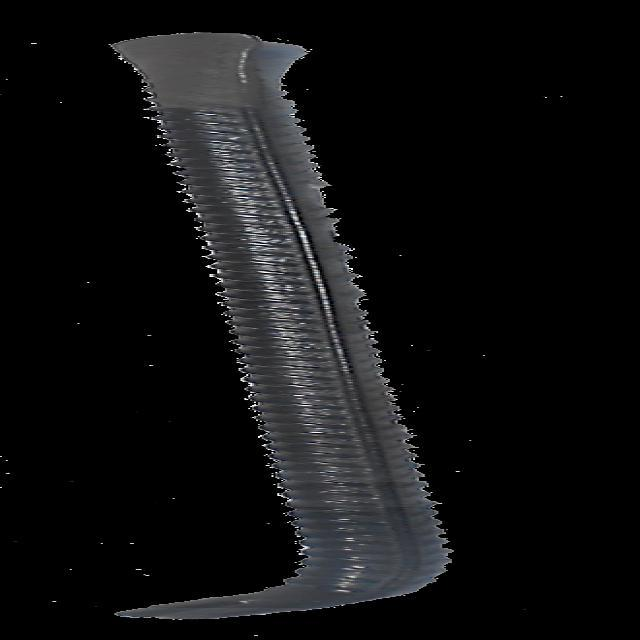Linggis: (44, 24, 640, 640)
